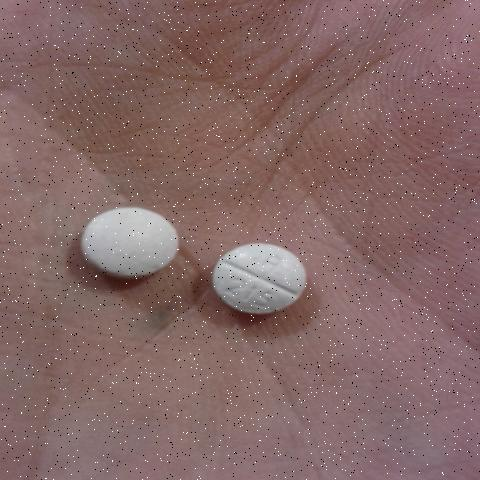hands: (44, 181, 196, 303), (199, 219, 324, 342)
